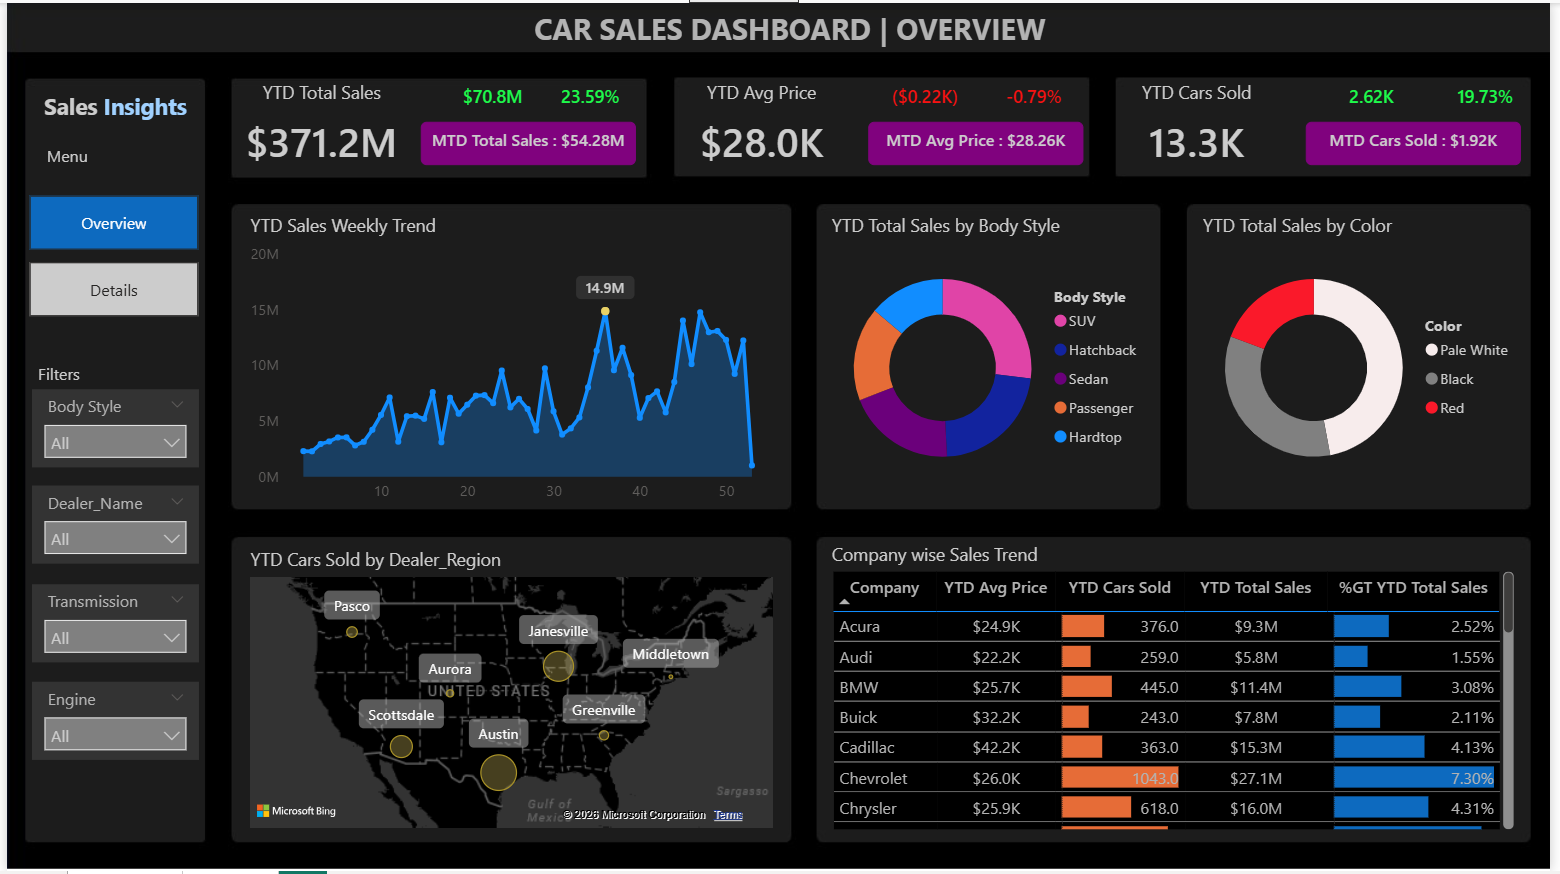

The page's visual inventory and layout, read from the dashboard file:
{"tool":"powerbi","page":{"name":"Overview","canvas":[1280,720],"ordinal":0},"visuals":[{"type":"card","title":"YTD Total Sales","fields":{"Values":["car_data.YTD Total Sales"]},"box":[172.9,63.1,175.6,83.7],"z":0},{"type":"card","fields":{"Values":["car_data.Sales Difference"]},"box":[355.4,63.1,94.7,32.9],"z":1000},{"type":"card","fields":{"Values":["car_data.YOY Sales Growth"]},"box":[436.4,63.1,94.7,32.9],"z":2000},{"type":"card","fields":{"Values":["car_data.MTD KPI"]},"box":[343.1,98.8,178.4,35.7],"z":3000},{"type":"card","title":"YTD Avg Price","fields":{"Values":["car_data.YTD Avg Price"]},"box":[537.9,63.1,175.6,83.7],"z":4000},{"type":"card","fields":{"Values":["car_data.Avg Price Diff"]},"box":[713.6,63.1,94.7,32.9],"z":5000},{"type":"card","fields":{"Values":["car_data.YOY Avg Price Growth"]},"box":[804.1,63.1,94.7,32.9],"z":6000},{"type":"card","fields":{"Values":["car_data.MTD Avg Price KPI"]},"box":[713.6,98.8,178.4,35.7],"z":7000},{"type":"card","title":"YTD Cars Sold","fields":{"Values":["car_data.YTD Cars Sold"]},"box":[898.8,63.1,175.6,83.7],"z":8000},{"type":"card","fields":{"Values":["car_data.Cars Sold Diff"]},"box":[1084.1,63.1,94.7,32.9],"z":9000},{"type":"card","fields":{"Values":["car_data.YOY Cars Sold Growth"]},"box":[1178.7,63.1,94.7,32.9],"z":10000},{"type":"card","fields":{"Values":["car_data.MTD Cars Sold KPI"]},"box":[1077.2,98.8,178.4,35.7],"z":11000},{"type":"areaChart","title":"YTD Sales Weekly Trend","fields":{"Category":["Calender Table.Week"],"Y":["Sum(car_data.Price ($))","car_data.Max Point on Area Chart"]},"box":[196.5,174.4,443,248.8],"z":12000},{"type":"donutChart","fields":{"Category":["car_data.Body Style"],"Y":["car_data.YTD Total Sales"]},"box":[679.1,174.4,272.1,237.2],"z":13000},{"type":"donutChart","fields":{"Y":["car_data.YTD Total Sales"],"Category":["car_data.Color"]},"box":[986,174.4,272.1,237.2],"z":14000},{"type":"map","fields":{"Category":["car_data.Dealer_Region"],"Size":["car_data.YTD Cars Sold"]},"box":[196.5,451.2,443,238.4],"z":15000},{"type":"tableEx","title":"Company wise Sales Trend ","fields":{"Values":["car_data.Company","car_data.YTD Avg Price","car_data.YTD Cars Sold","car_data.YTD Total Sales1","car_data.YTD Total Sales"]},"box":[679.1,446.5,575.6,243],"z":16000},{"type":"textbox","box":[432.6,0,443,47.7],"z":17000},{"type":"slicer","fields":{"Values":["car_data.Body Style"]},"box":[20.9,319.8,138.4,65.1],"z":18000},{"type":"slicer","fields":{"Values":["car_data.Dealer_Name"]},"box":[20.9,400,138.4,65.1],"z":19000},{"type":"slicer","fields":{"Values":["car_data.Transmission"]},"box":[20.9,481.4,138.4,65.1],"z":20000},{"type":"slicer","fields":{"Values":["car_data.Engine"]},"box":[20.9,562.8,138.4,65.1],"z":21000},{"type":"textbox","box":[20.9,293,55.8,33.7],"z":22000},{"type":"textbox","box":[20.9,68.6,138.4,39.5],"z":22001},{"type":"textbox","box":[27.9,112.8,91.9,33.7],"z":22002},{"type":"pageNavigator","box":[18.6,159.3,140.7,100],"z":22003}]}

Visuals, with their boxes in screenshot pixels (x1, y1, x2, y2), scaled from the page's 1280x720 canvas onto the 1560x874 screenshot:
"YTD Total Sales" card: region(211, 77, 425, 178)
card - car_data.Sales Difference: region(433, 77, 549, 117)
card - car_data.YOY Sales Growth: region(532, 77, 647, 117)
card - car_data.MTD KPI: region(418, 120, 636, 163)
"YTD Avg Price" card: region(656, 77, 870, 178)
card - car_data.Avg Price Diff: region(870, 77, 985, 117)
card - car_data.YOY Avg Price Growth: region(980, 77, 1095, 117)
card - car_data.MTD Avg Price KPI: region(870, 120, 1087, 163)
"YTD Cars Sold" card: region(1095, 77, 1309, 178)
card - car_data.Cars Sold Diff: region(1321, 77, 1437, 117)
card - car_data.YOY Cars Sold Growth: region(1437, 77, 1552, 117)
card - car_data.MTD Cars Sold KPI: region(1313, 120, 1530, 163)
"YTD Sales Weekly Trend" areaChart: region(239, 212, 779, 514)
donutChart - car_data.Body Style x car_data.YTD Total Sales: region(828, 212, 1159, 500)
donutChart - car_data.YTD Total Sales x car_data.Color: region(1202, 212, 1533, 500)
map - car_data.Dealer_Region x car_data.YTD Cars Sold: region(239, 548, 779, 837)
"Company wise Sales Trend " tableEx: region(828, 542, 1529, 837)
textbox: region(527, 0, 1067, 58)
slicer - car_data.Body Style: region(25, 388, 194, 467)
slicer - car_data.Dealer_Name: region(25, 486, 194, 565)
slicer - car_data.Transmission: region(25, 584, 194, 663)
slicer - car_data.Engine: region(25, 683, 194, 762)
textbox: region(25, 356, 93, 397)
textbox: region(25, 83, 194, 131)
textbox: region(34, 137, 146, 178)
pageNavigator: region(23, 193, 194, 315)
